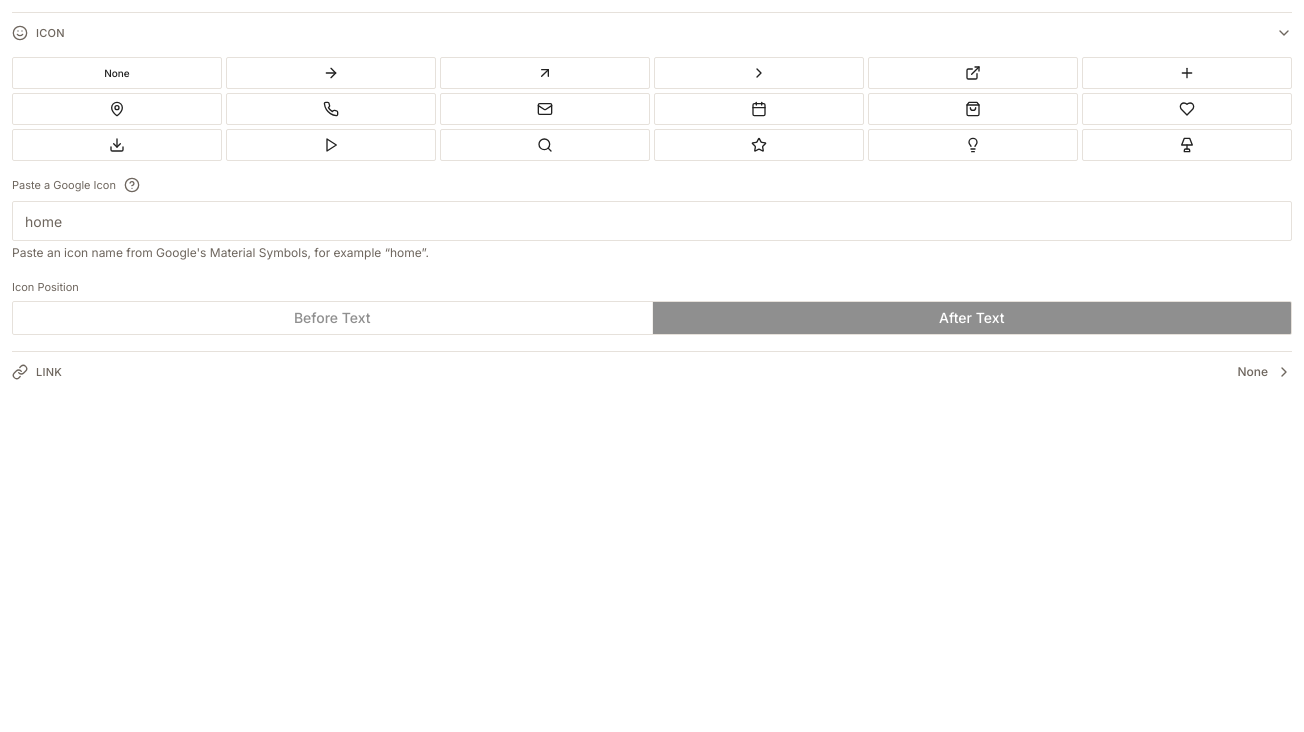
Test case: supports icons and links on a h1
Earlier steps of the test are not shown.
Click the button "Link None" at [1253, 372], box [12,352,1292,392]
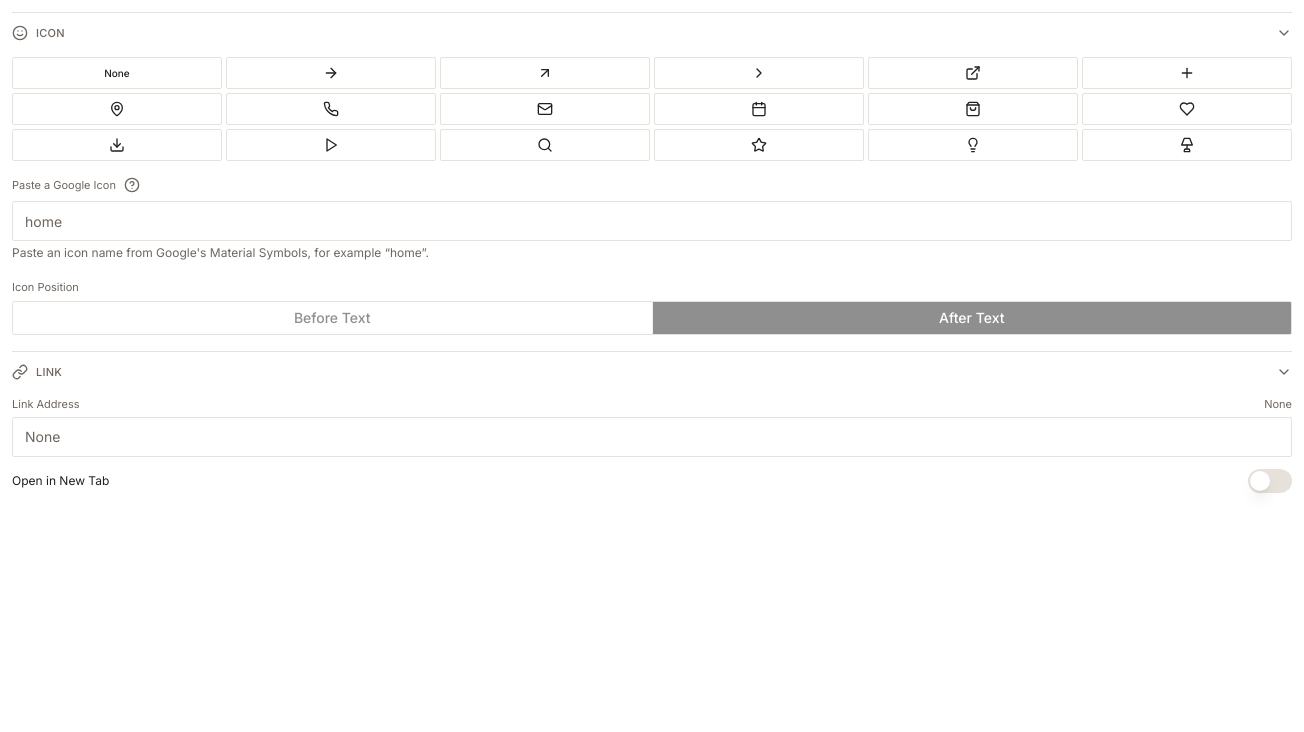
Click the button named "Mail" at [545, 109], box [440,93,650,125]
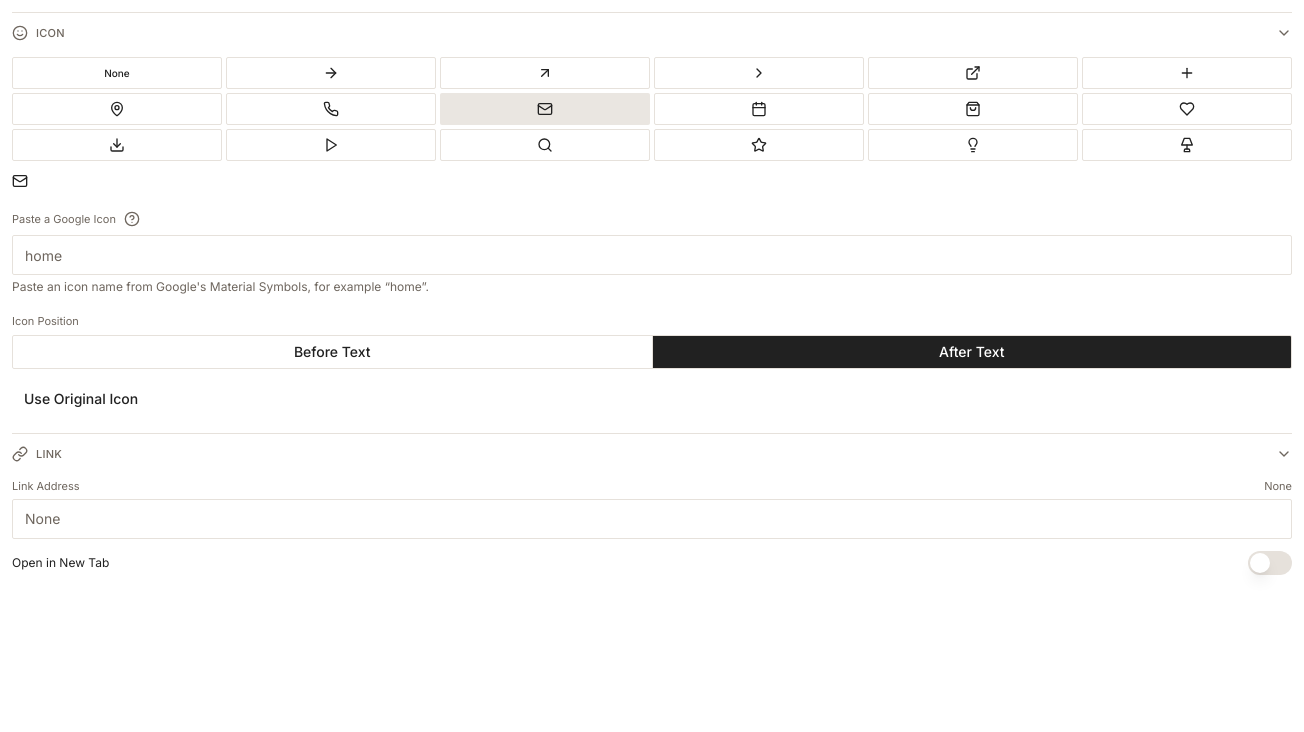
Click the button "Before Text" at [332, 352], box [13,336,652,368]
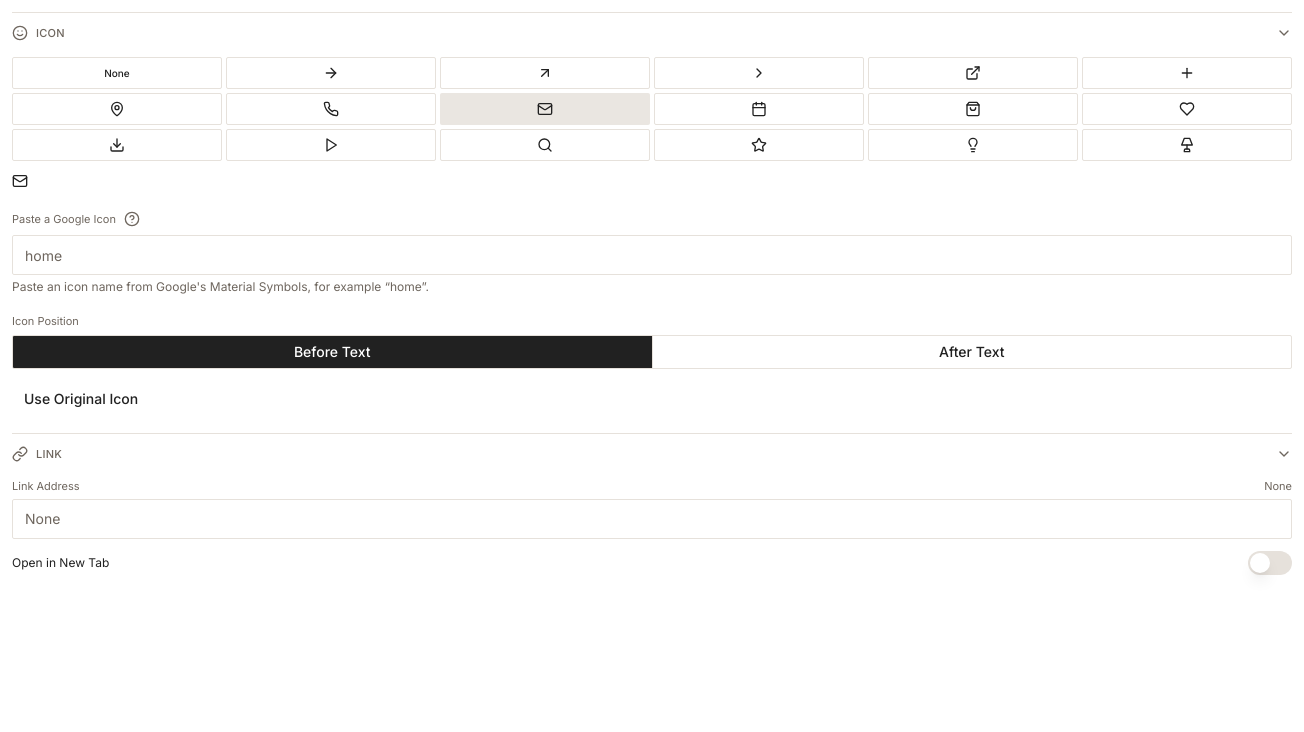
Type "/about" into the field labelled "Link Address" at [652, 518], box [12,498,1292,538]
Press Enter in the field labelled "Link Address", box [12,498,1292,538]
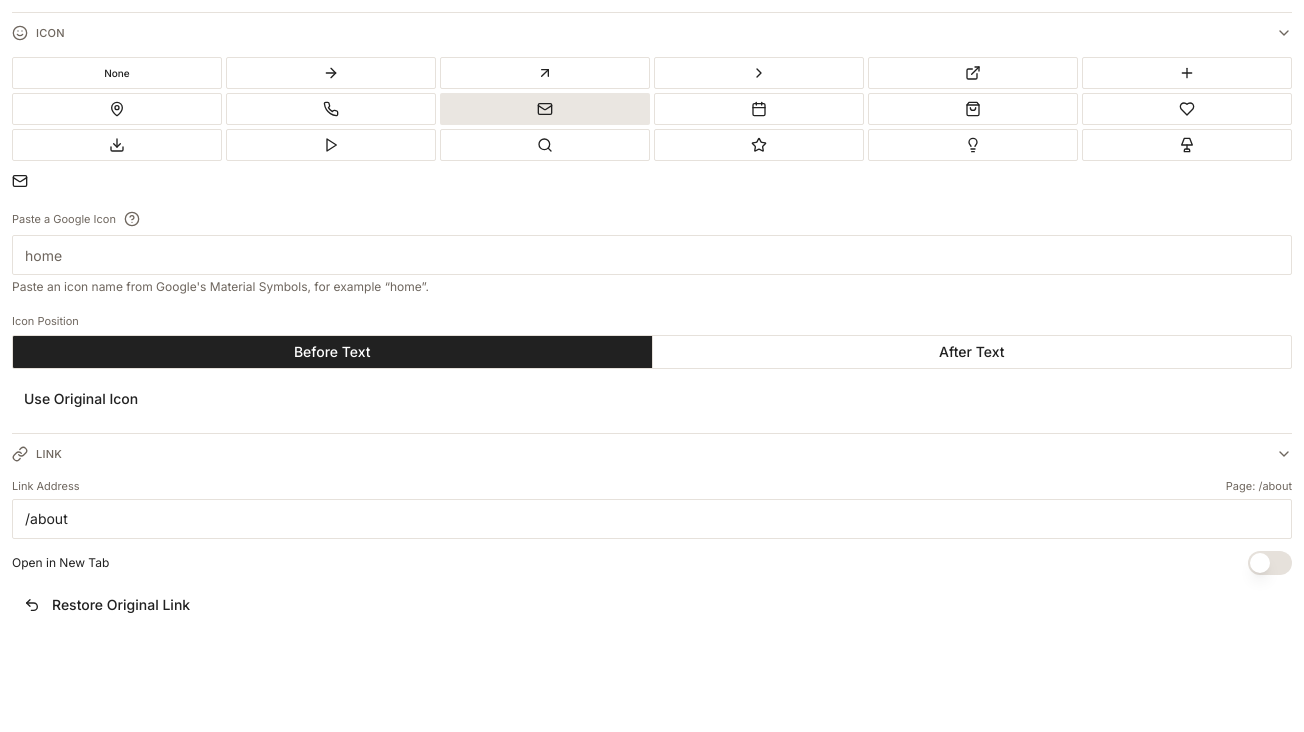
Click the switch named "Open in New Tab" at [1270, 562], box [1248,550,1292,574]
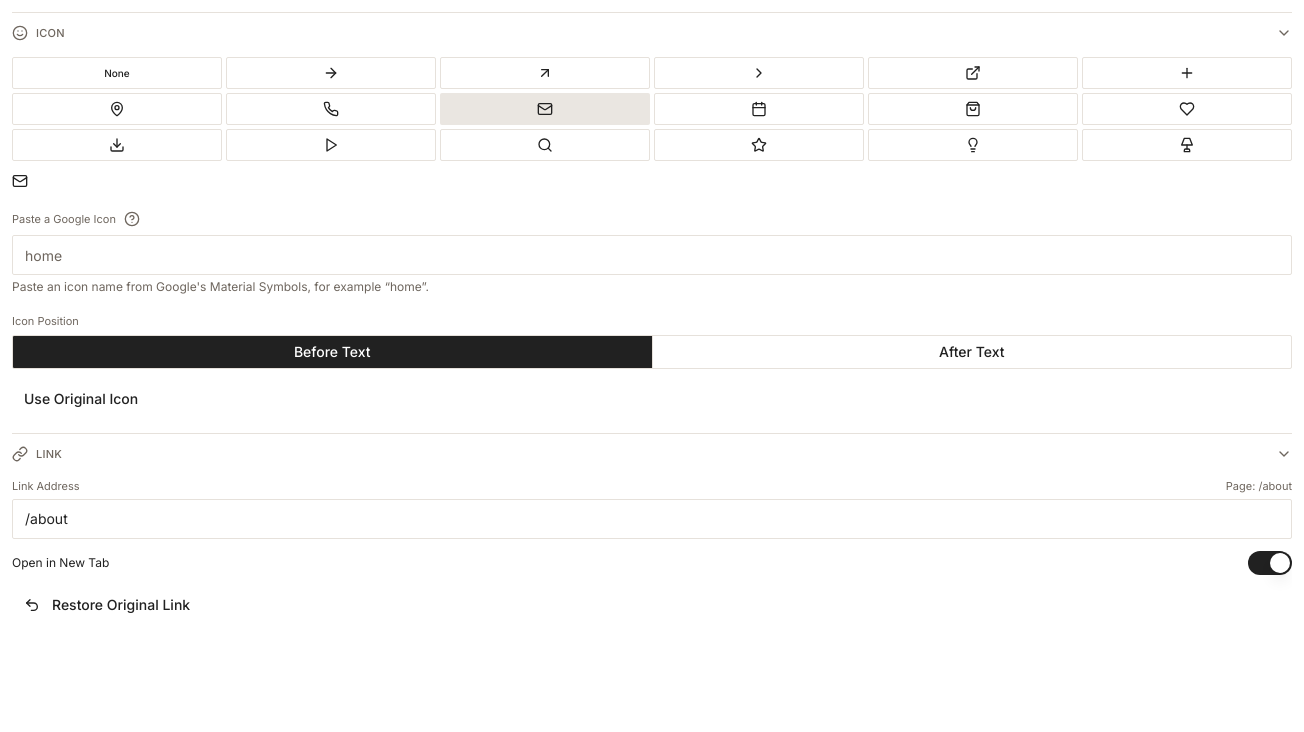
Click the button "Icon" at [20, 33], box [12,13,1292,53]
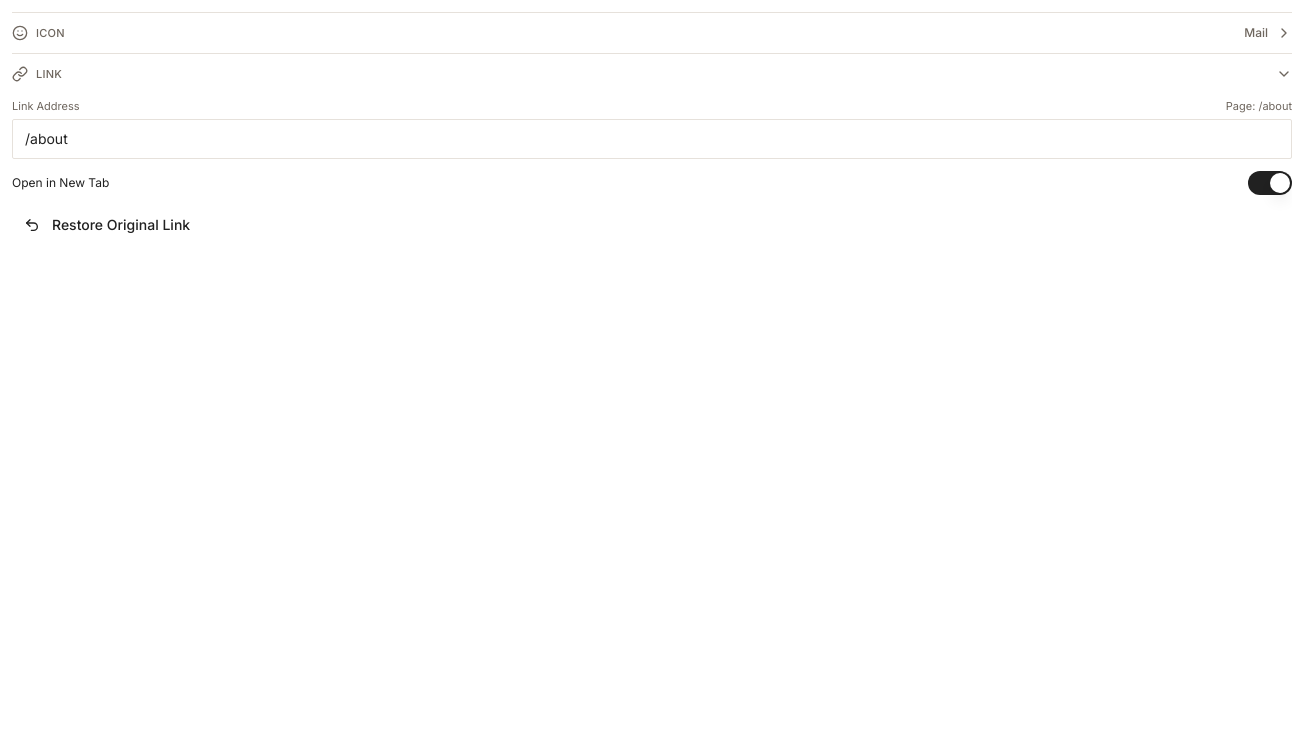
Expected: the button "Icon Mail" is collapsed, [12,13,1292,53]
